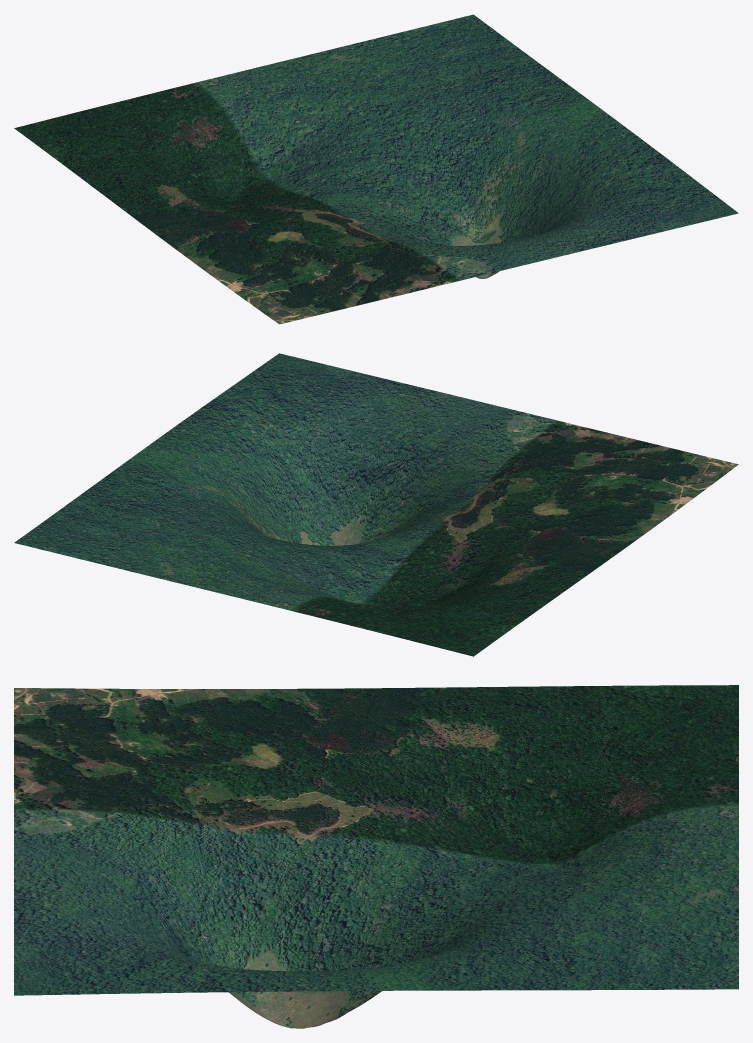
Rendered from terrain_real_T_W02_S05.glb.
3 views of the same model, one above another, from view 1: azimuth 30°, elevation 25°; view 2: azimuth 150°, elevation 25°; view 3: azimuth 270°, elevation 25° (orthographic). The views are drawn at different scales.
Visible parts, largest first — view 1: Terrain_Real_DEM_T_W02_S05; view 2: Terrain_Real_DEM_T_W02_S05; view 3: Terrain_Real_DEM_T_W02_S05.
Boxes of the visible parts, x1=… form: Terrain_Real_DEM_T_W02_S05: x1=14, y1=14, x2=738, y2=324; Terrain_Real_DEM_T_W02_S05: x1=14, y1=353, x2=738, y2=656; Terrain_Real_DEM_T_W02_S05: x1=14, y1=685, x2=738, y2=1028.
Bounding box in the file's own units: 2000 × 421 × 2000.
1 material, 1 textured.
